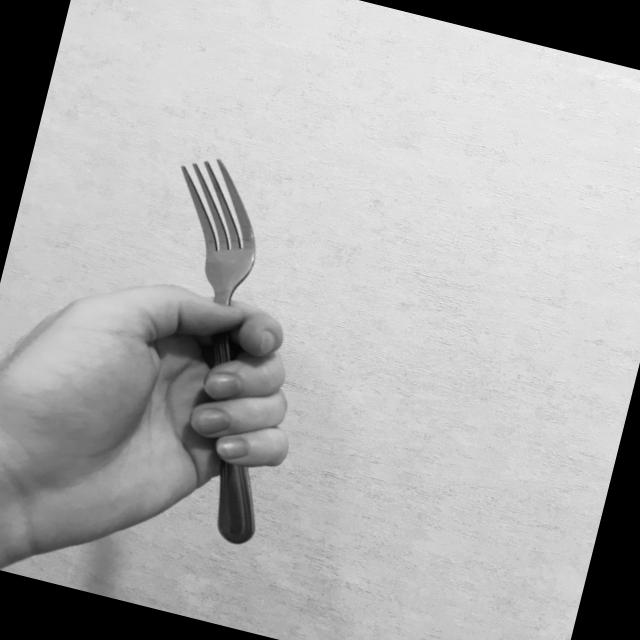fork: (94, 149, 342, 549)
